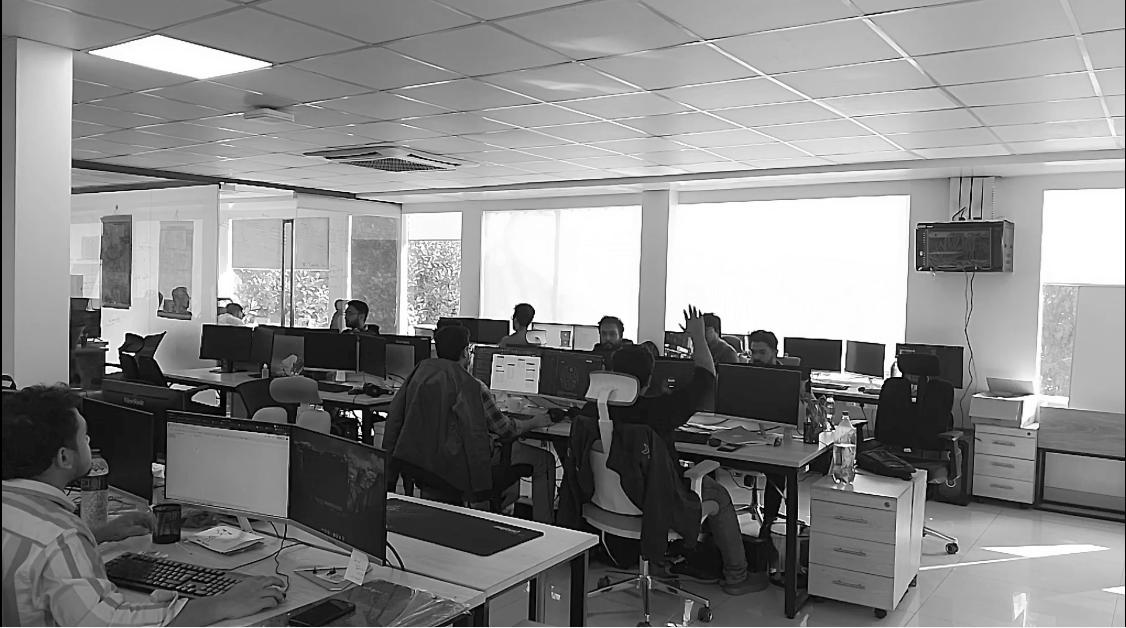hand: (668, 302, 730, 402)
